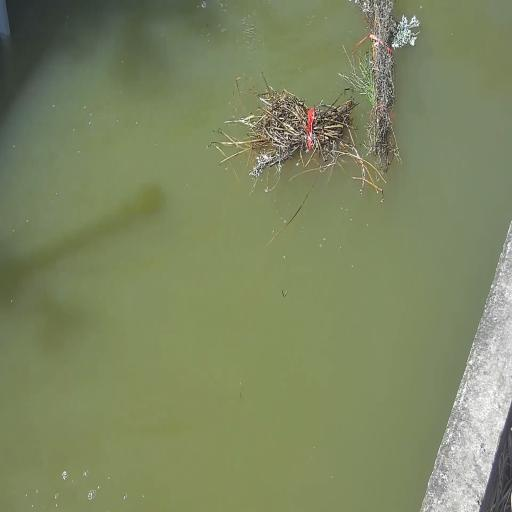twig: (340, 0, 420, 166), (243, 79, 362, 186)
